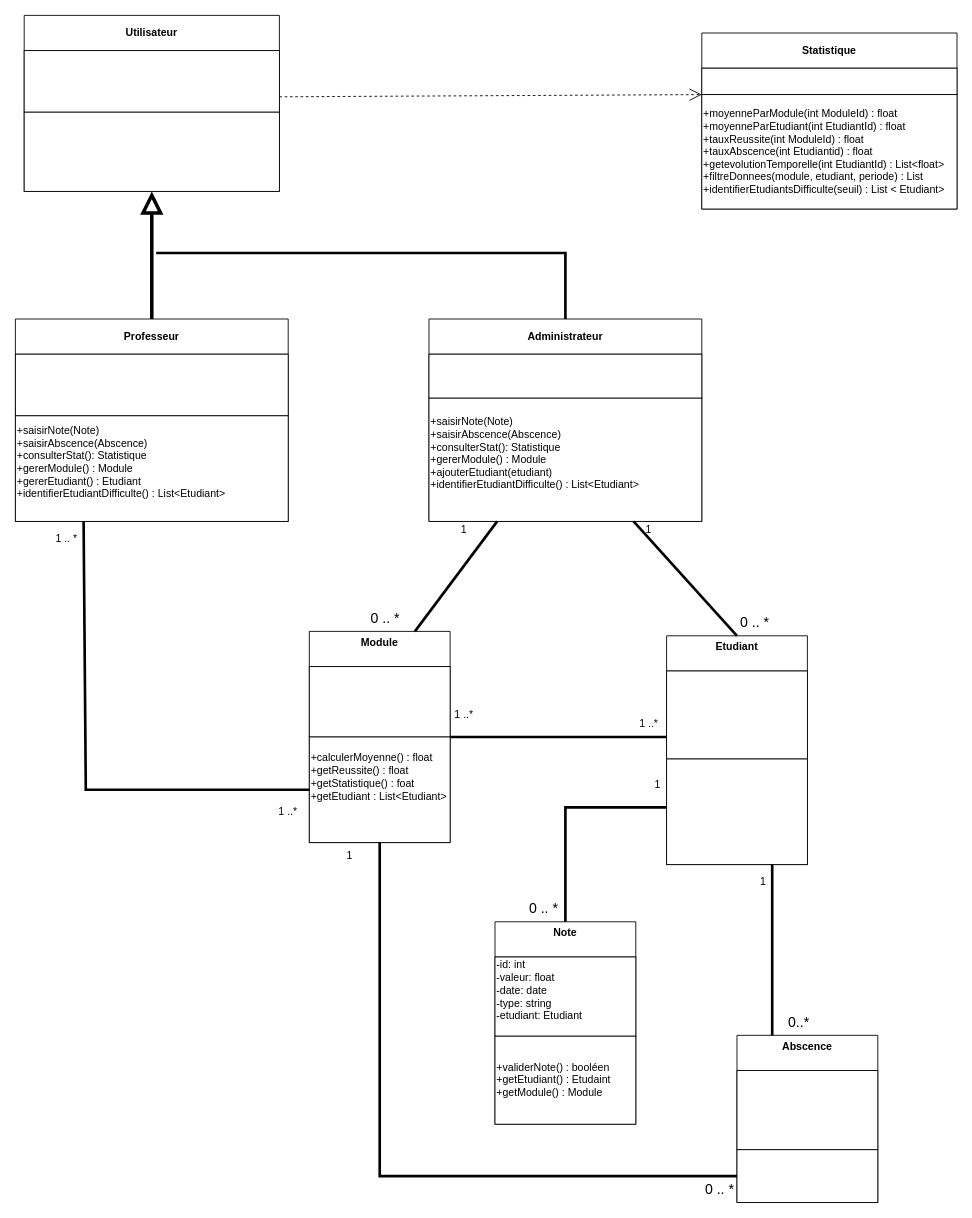
Some shapes in this 972 by 1218 pixel diagram are drawn without their labels. Here are the shapes that lost their labels. From the top down, the centre of each, then its label:
At point 151,81: "-id : int -nom : string -prenom : string -email : string".
At point 379,701: "-id: int -code:int -libelle:string -coefficient: float -semestre: int".
At point 736,714: "-id: int -nom:string -prenom:string -email:string -promotion:string -groupe: int".
At point 807,1110: "-id: int -duree: float -date: date -motif : string -justifiee : booléen".
At point 807,1176: "+getEtudiant (): Etudiant +getModule() : Module +estJustifiee() : booléen".
